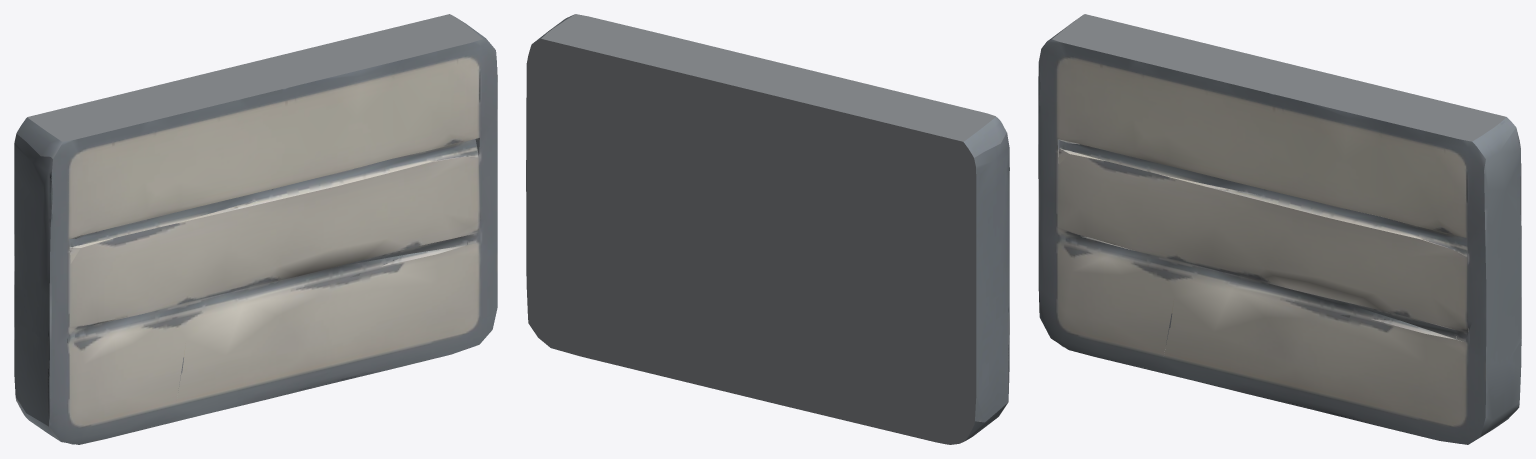
Rendered from heat_radiator_mk1.glb.
The picture shows the model from 3 angles, left to right: view 1: azimuth 30°, elevation 25°; view 2: azimuth 150°, elevation 25°; view 3: azimuth 330°, elevation 25°; orthographic projection.
Parts seen in each view (by area): view 1: part; view 2: part; view 3: part.
Part boxes in pixels (box(x1,y1,x2,y2)): part: box(14, 14, 497, 444); part: box(526, 14, 1009, 444); part: box(1038, 14, 1521, 444).
Bounding box in the file's own units: 3 × 1.96 × 0.4055.
Materials: 2 (1 with a texture image).
